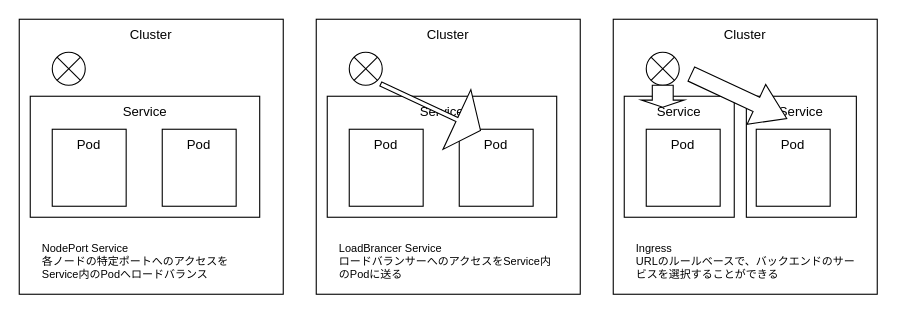
Some shapes in this 897 by 314 pixel diagram are drawn without their labels. Here are the shapes that lost their labels. From the top down, the centre of each, then its label:
At (662,95): "/bar".
At (738,96): "/foo".
